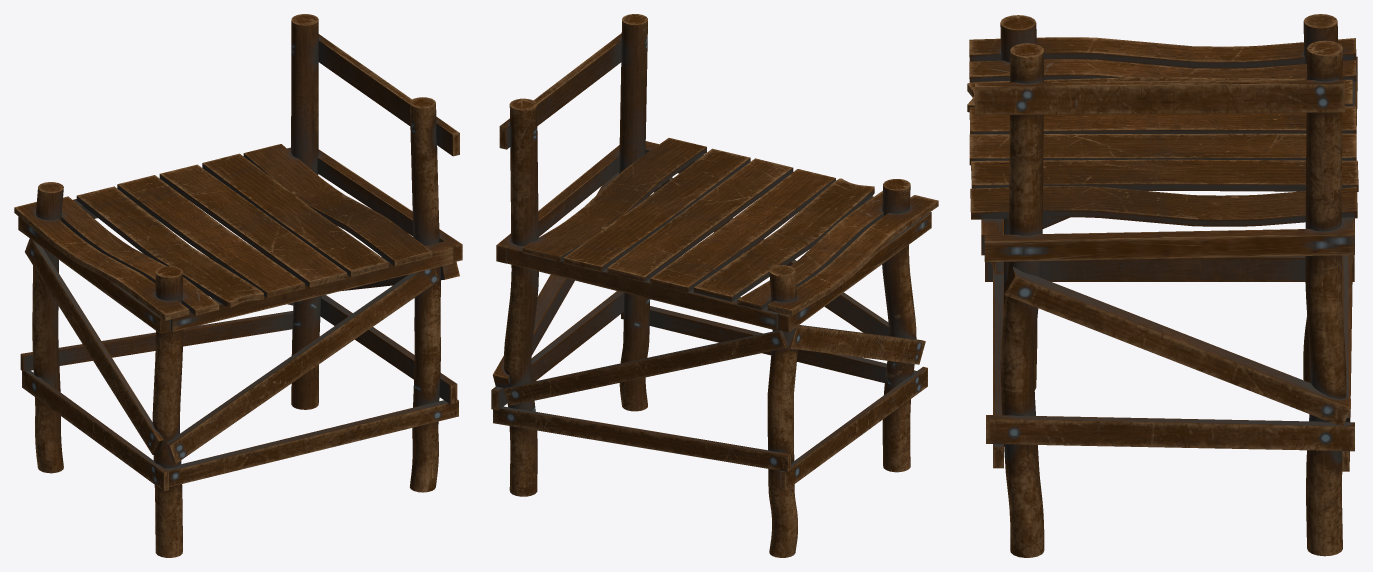
File: WoodenPier_1.fbx
The picture shows the model from 3 angles, left to right: view 1: azimuth 30°, elevation 25°; view 2: azimuth 150°, elevation 25°; view 3: azimuth 270°, elevation 25°; orthographic projection. The views are drawn at different scales.
Visible parts, largest first — view 1: Pier_01; view 2: Pier_01; view 3: Pier_01.
Boxes of the visible parts, <box> form: Pier_01: <box>14,14,462,557</box>; Pier_01: <box>491,14,938,557</box>; Pier_01: <box>967,14,1358,557</box>.
Size of the model in its own units: 205 by 243 by 172.
1 material, 1 textured.
